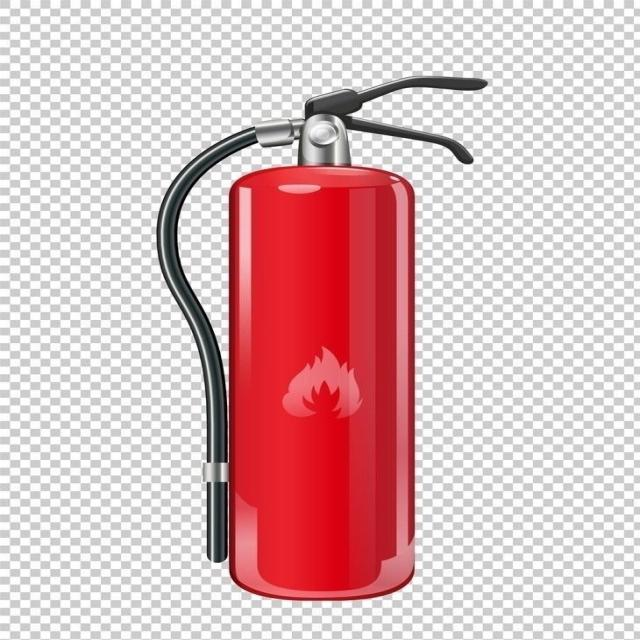fire_extinguisher: (149, 73, 493, 603)
